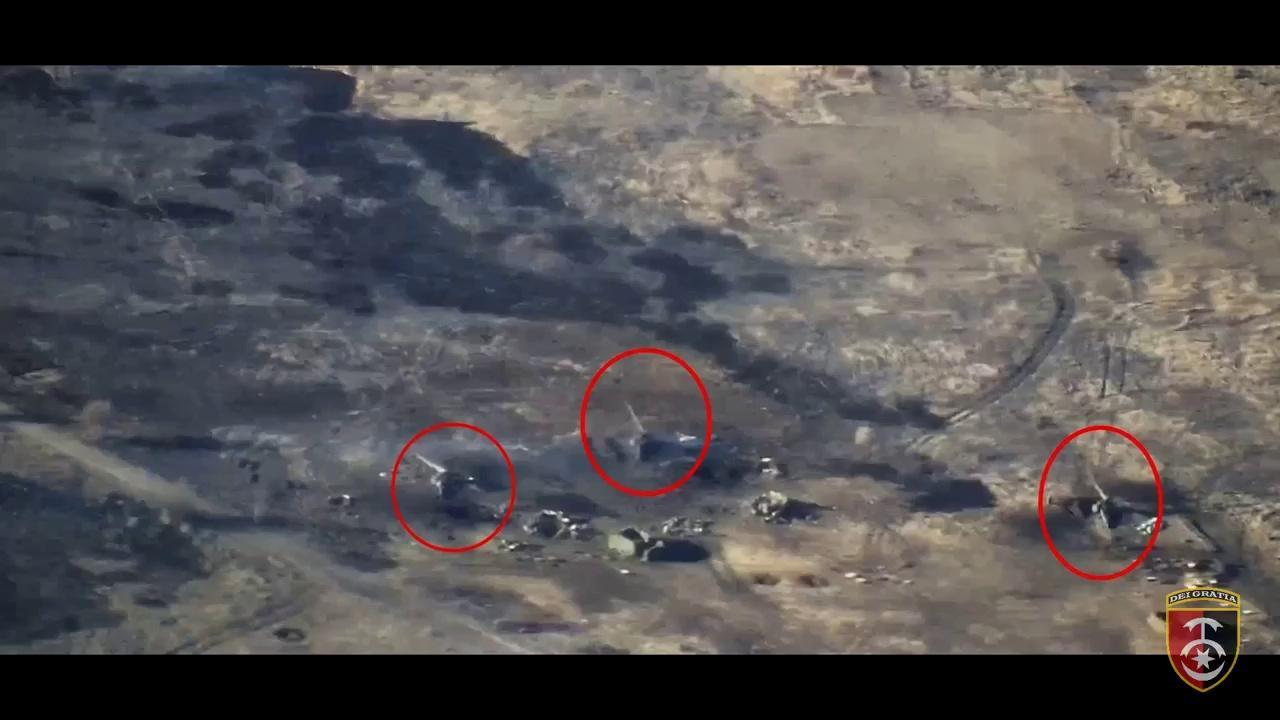sau: (1082, 462, 1140, 536), (410, 450, 480, 501), (622, 402, 666, 464)
